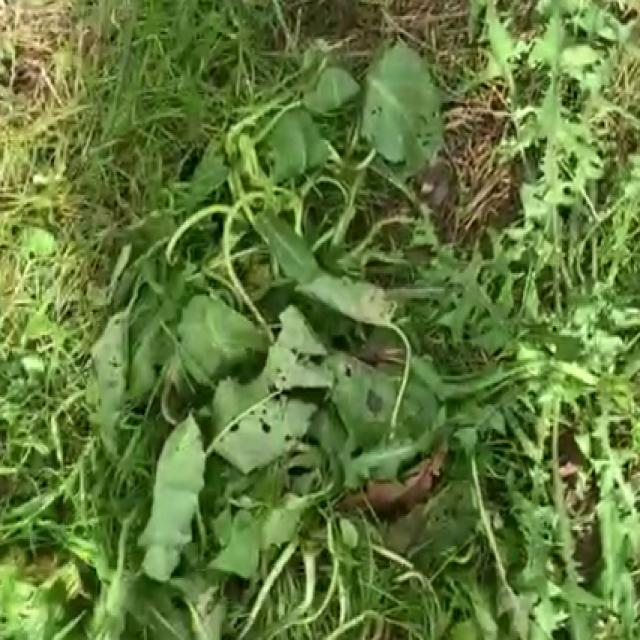organic waste: (71, 65, 490, 602)
